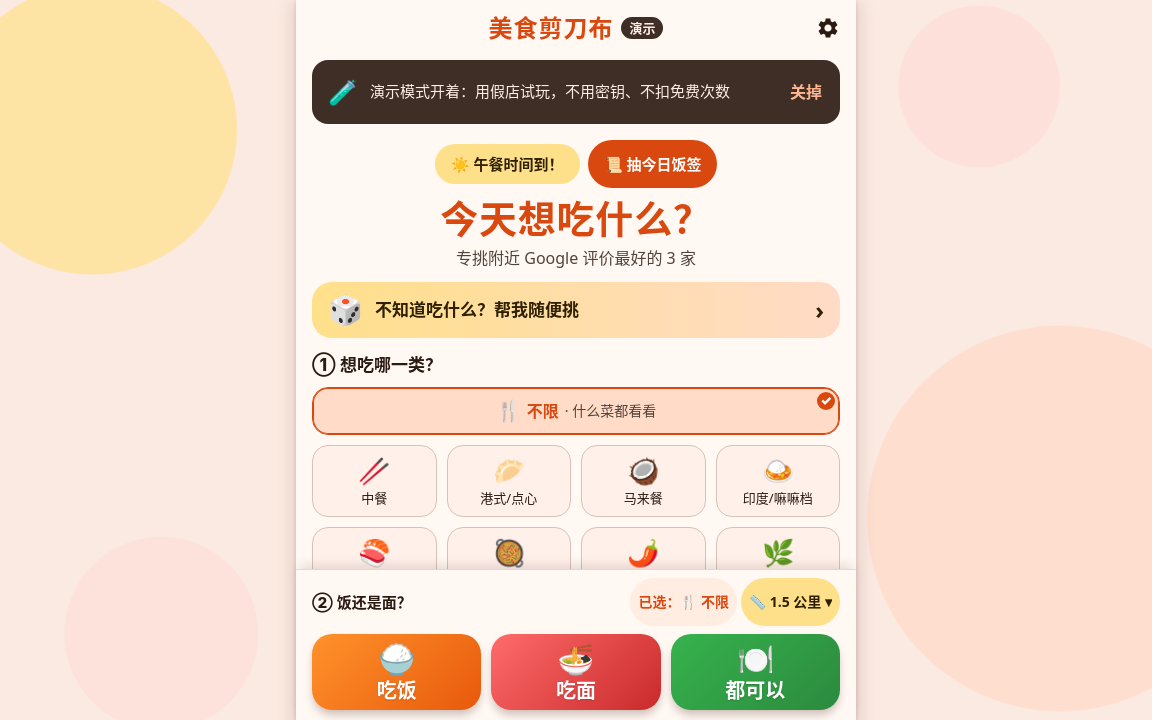
it: 📜 今日饭签（功能清单第六节） › FORTUNE-06 照签去找：关窗口、格子选好签上的菜系、用签上的组合搜索（演示写「演示模式不扣次数」）
Click the button "📜 抽今日饭签" at (652, 164), box [588,140,717,188]
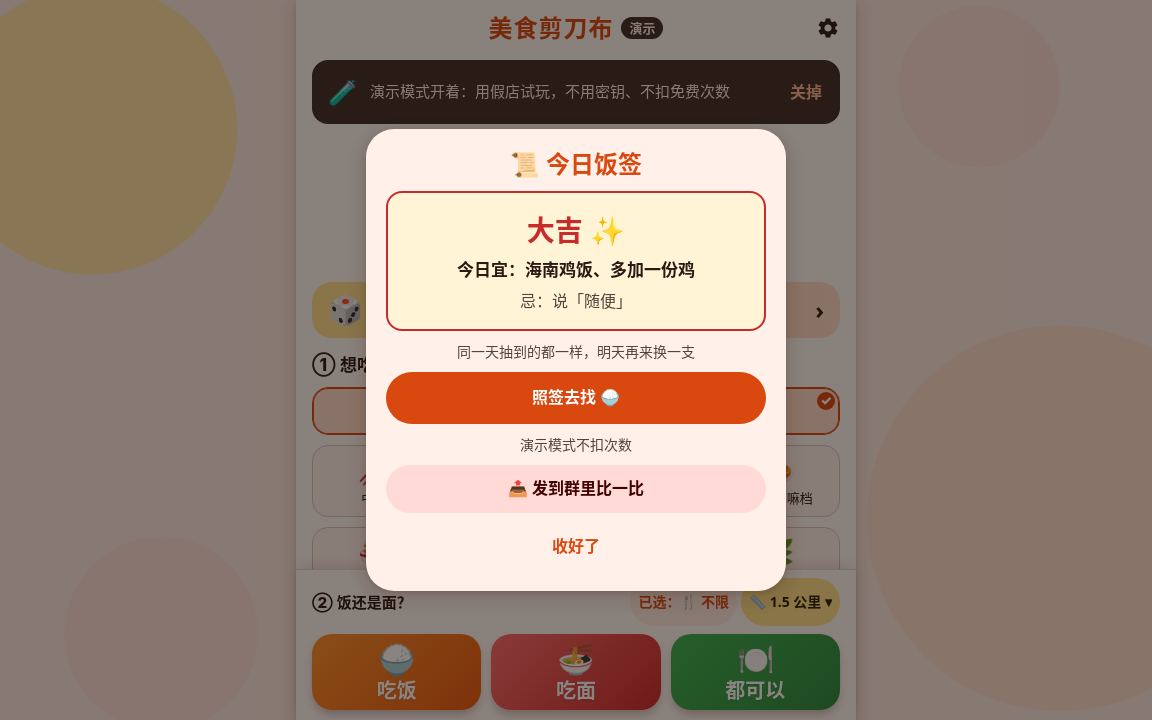
Click the button "照签去找 🍚" at (576, 398), box [386,372,766,424]
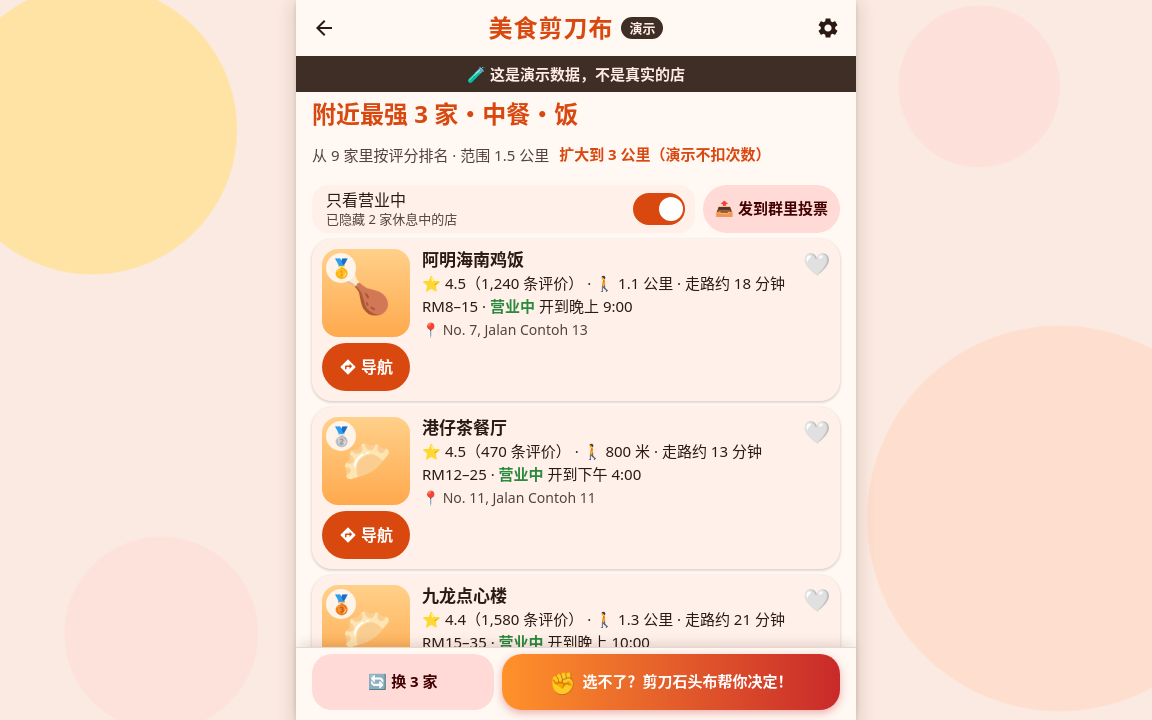
Result: the heading "📜 今日饭签" is gone
